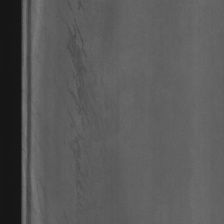water_spot: (62, 13, 103, 215)
